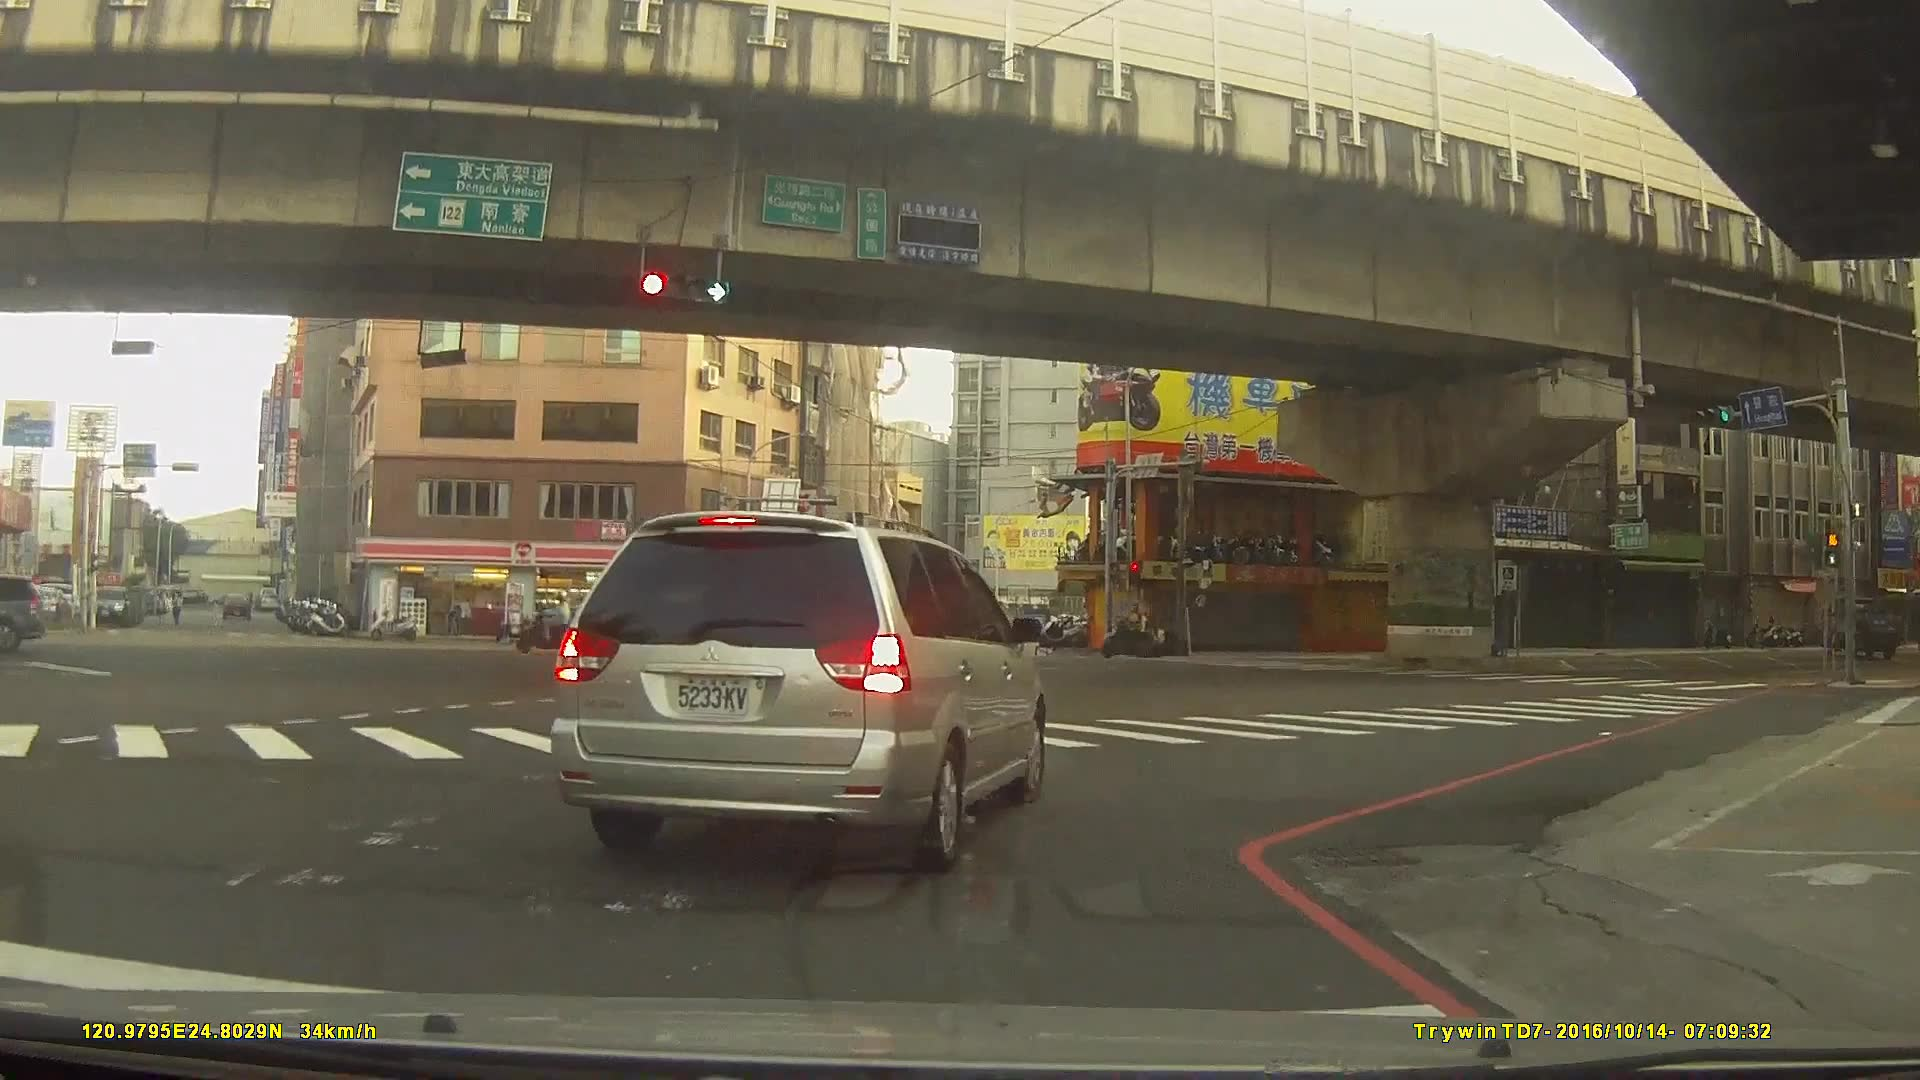rider: (513, 589, 583, 650), (1101, 600, 1160, 658)
vehicle: (547, 509, 1047, 871), (1819, 593, 1897, 660), (0, 571, 47, 655), (872, 624, 940, 663), (85, 584, 128, 629), (543, 606, 605, 633), (215, 591, 251, 622)
